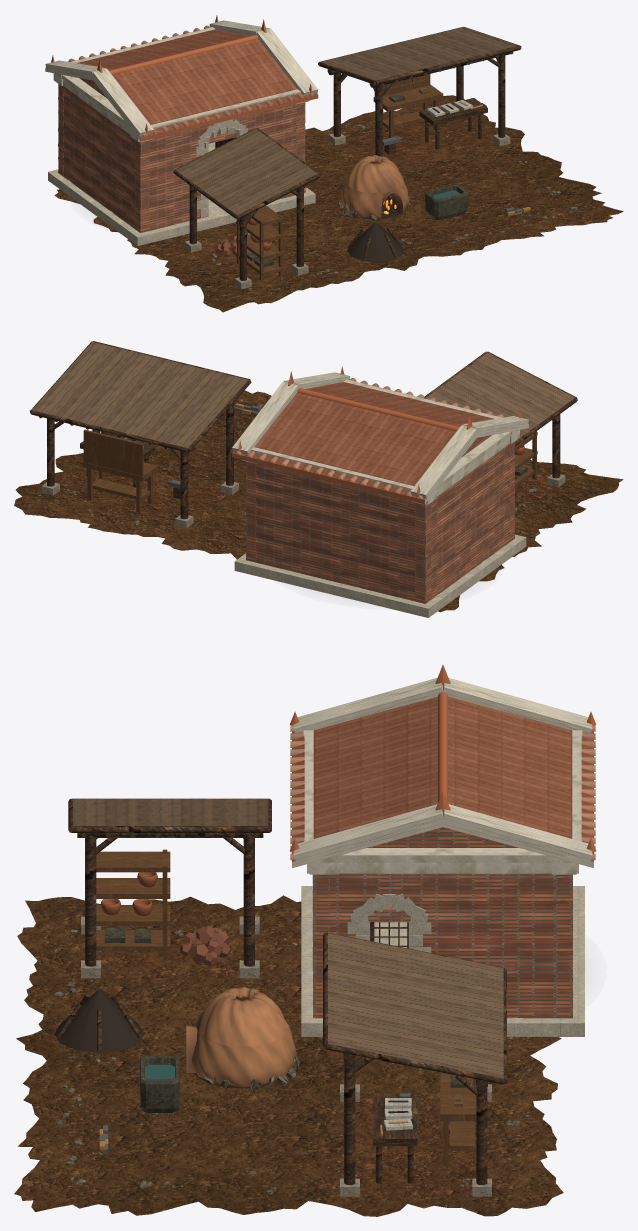
The model's file is bronze_foundry@2.glb.
3 views of the same model, one above another, from view 1: azimuth 30°, elevation 25°; view 2: azimuth 150°, elevation 25°; view 3: azimuth 270°, elevation 25° (orthographic). The views are drawn at different scales.
Visible parts, largest first — view 1: part_1, part_4, part_26, part_9, part_6, part_25, part_7, part_5, part_16, part_20, part_27, part_21 (+4 smaller); view 2: part_4, part_9, part_1, part_26, part_25, part_6, part_7, part_16, part_5, part_27, part_28, part_8; view 3: part_1, part_26, part_9, part_4, part_25, part_6, part_7, part_20, part_5, part_16, part_21, part_18 (+7 smaller).
Boxes of the visible parts, left/top/right/bottom form: part_1: left=54, top=95, right=623, bottom=312; part_4: left=58, top=78, right=305, bottom=232; part_26: left=45, top=29, right=317, bottom=137; part_9: left=176, top=27, right=518, bottom=214; part_6: left=173, top=27, right=521, bottom=280; part_25: left=45, top=20, right=317, bottom=142; part_7: left=193, top=117, right=498, bottom=285; part_5: left=48, top=119, right=315, bottom=245; part_16: left=236, top=74, right=443, bottom=280; part_20: left=340, top=155, right=408, bottom=219; part_27: left=51, top=15, right=318, bottom=141; part_21: left=347, top=194, right=405, bottom=262; part_4: left=245, top=435, right=514, bottom=603; part_9: left=32, top=342, right=574, bottom=448; part_1: left=14, top=390, right=623, bottom=612; part_26: left=232, top=382, right=495, bottom=499; part_25: left=232, top=372, right=528, bottom=505; part_6: left=30, top=341, right=577, bottom=519; part_7: left=54, top=467, right=555, bottom=524; part_16: left=82, top=429, right=537, bottom=512; part_5: left=234, top=534, right=526, bottom=617; part_27: left=232, top=366, right=522, bottom=504; part_28: left=234, top=378, right=503, bottom=499; part_8: left=41, top=474, right=565, bottom=528; part_1: left=14, top=895, right=563, bottom=1216; part_26: left=292, top=696, right=593, bottom=861; part_9: left=73, top=799, right=503, bottom=1078; part_4: left=313, top=827, right=572, bottom=1018; part_25: left=292, top=677, right=593, bottom=874; part_6: left=56, top=798, right=506, bottom=1185; part_7: left=96, top=930, right=476, bottom=1194; part_20: left=186, top=987, right=295, bottom=1087; part_5: left=301, top=875, right=584, bottom=1036; part_16: left=96, top=849, right=476, bottom=1165; part_21: left=54, top=988, right=287, bottom=1088; part_18: left=104, top=927, right=466, bottom=1112.
Bounding box in the file's own units: 9.4 × 3.29 × 7.32.
29 materials, 17 textured.
